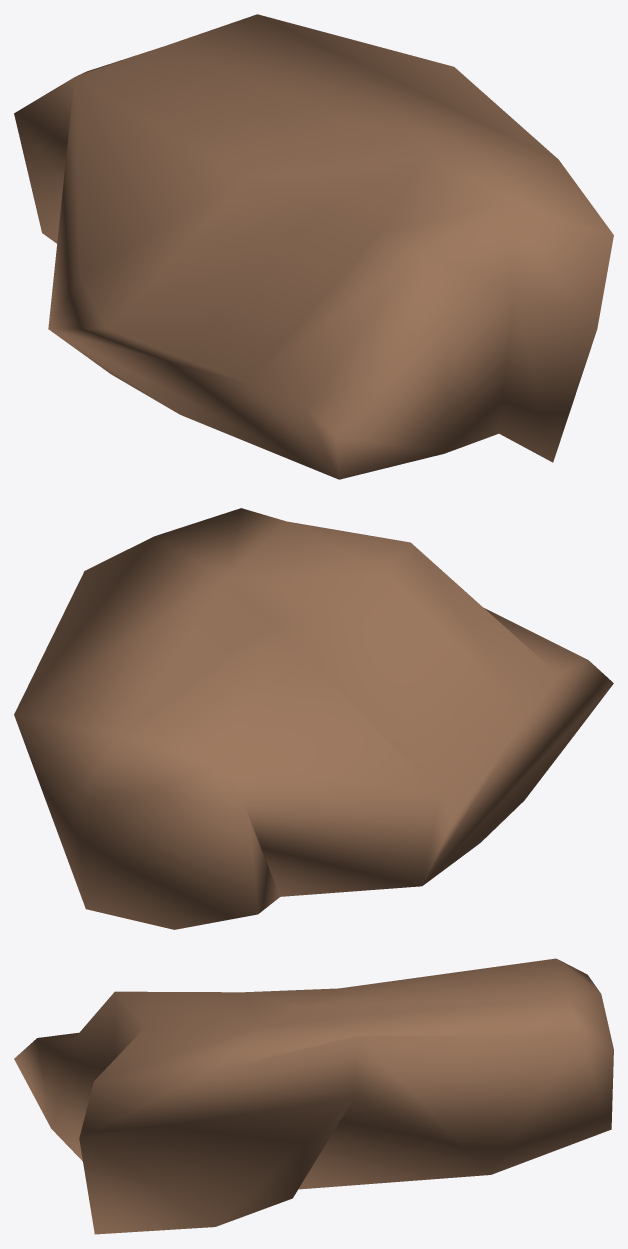
The model's file is BrokenStoneHand.glb.
3 renders of one model, top to bottom at view 1: azimuth 30°, elevation 25°; view 2: azimuth 150°, elevation 25°; view 3: azimuth 270°, elevation 25°, orthographic. The views are drawn at different scales.
Parts seen in each view (by area): view 1: BrokenHand; view 2: BrokenHand; view 3: BrokenHand.
Part boxes in pixels (bbox=[...]): BrokenHand: bbox=[14, 14, 613, 479]; BrokenHand: bbox=[14, 508, 613, 929]; BrokenHand: bbox=[14, 958, 613, 1234].
Size of what is drawn, in the model's own units: 0.2792 by 0.183 by 0.4476.
